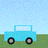vehicle: (4, 25, 36, 44)
